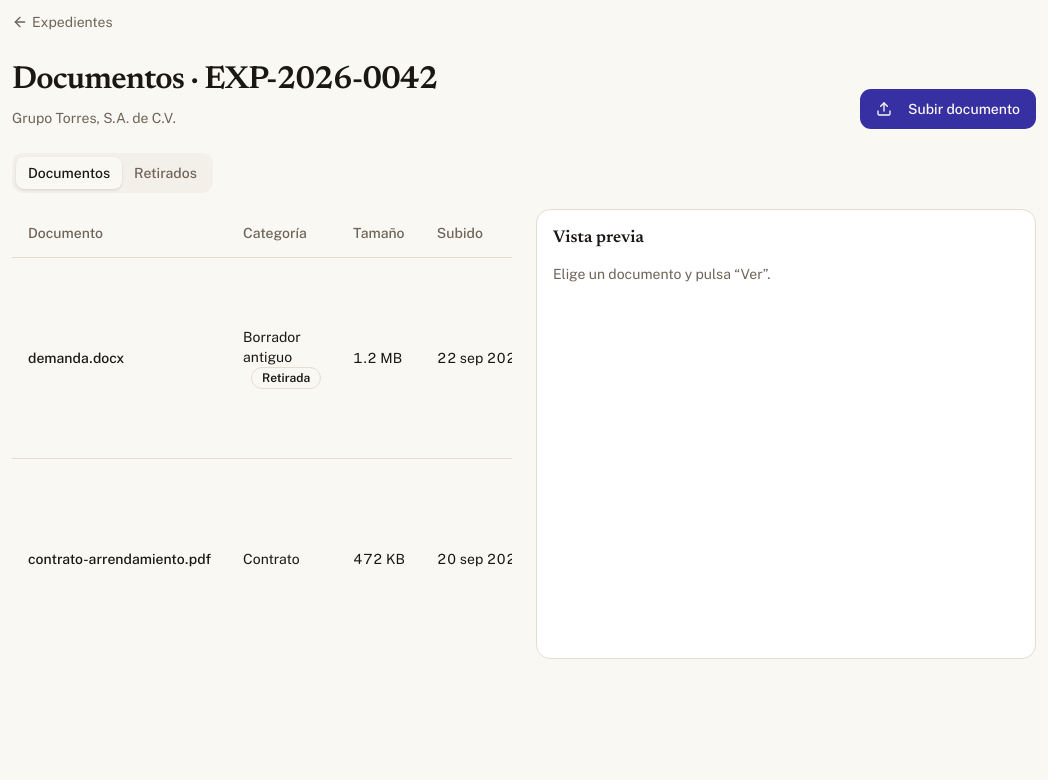
it: DocumentsView › a 409 on restore says a colleague already did it, and re-reads
Click the tab "Retirados" at (165, 173), box [122, 157, 209, 189]
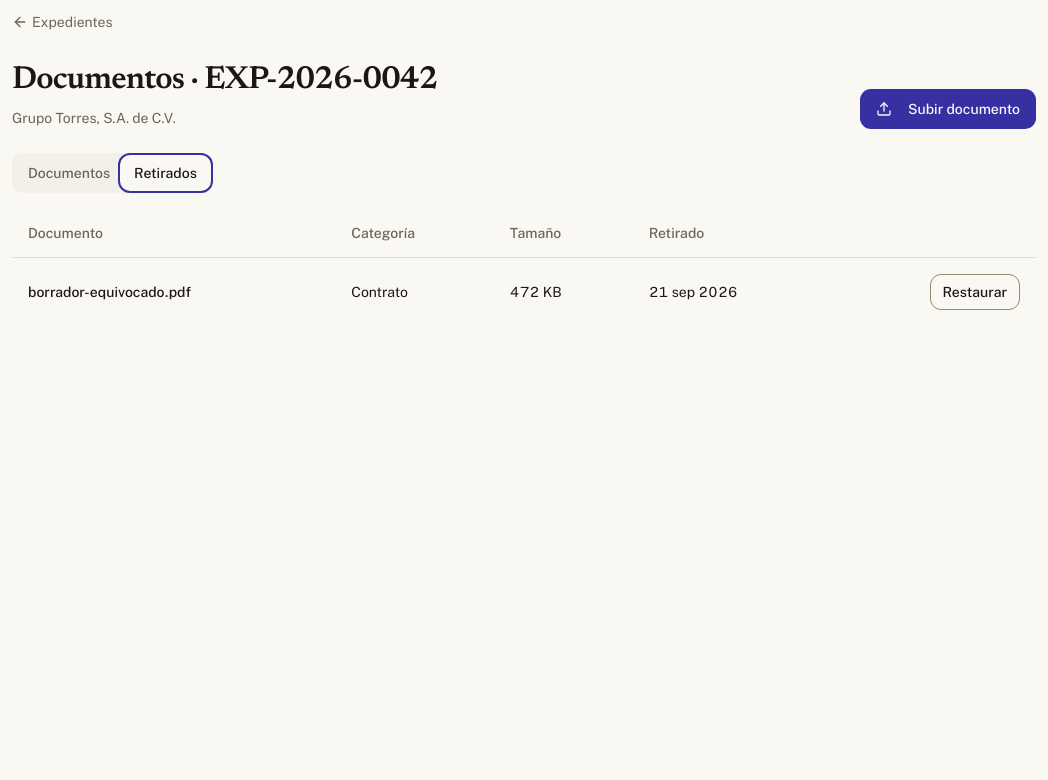
Click the button "Restaurar" at (975, 292), box [930, 274, 1020, 310]
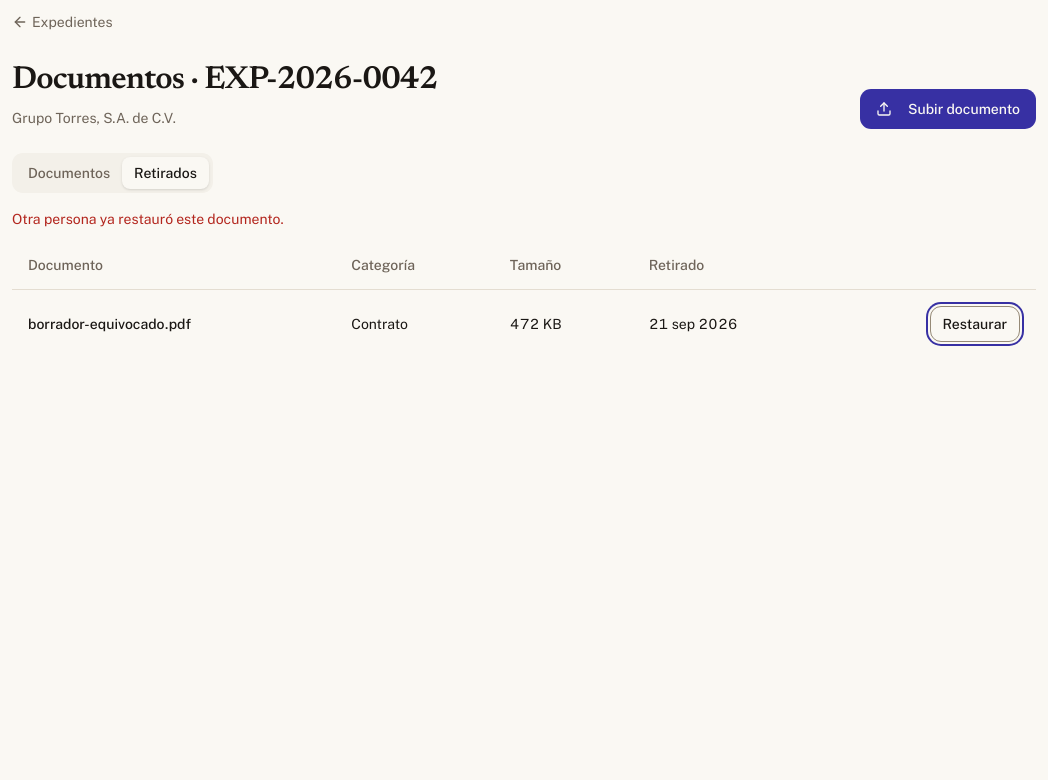
Check: the text "Otra persona ya restauró este documento." is shown, box [12, 211, 284, 227]
